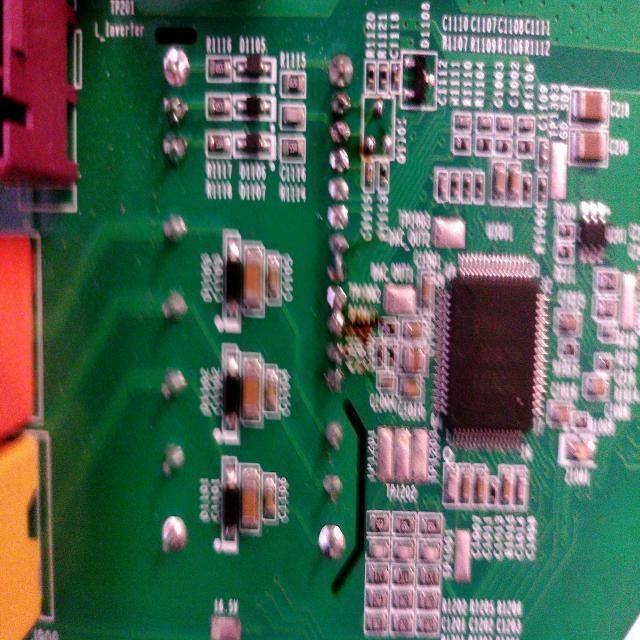Soldering shorted: (326, 284, 349, 346), (324, 234, 351, 283)
